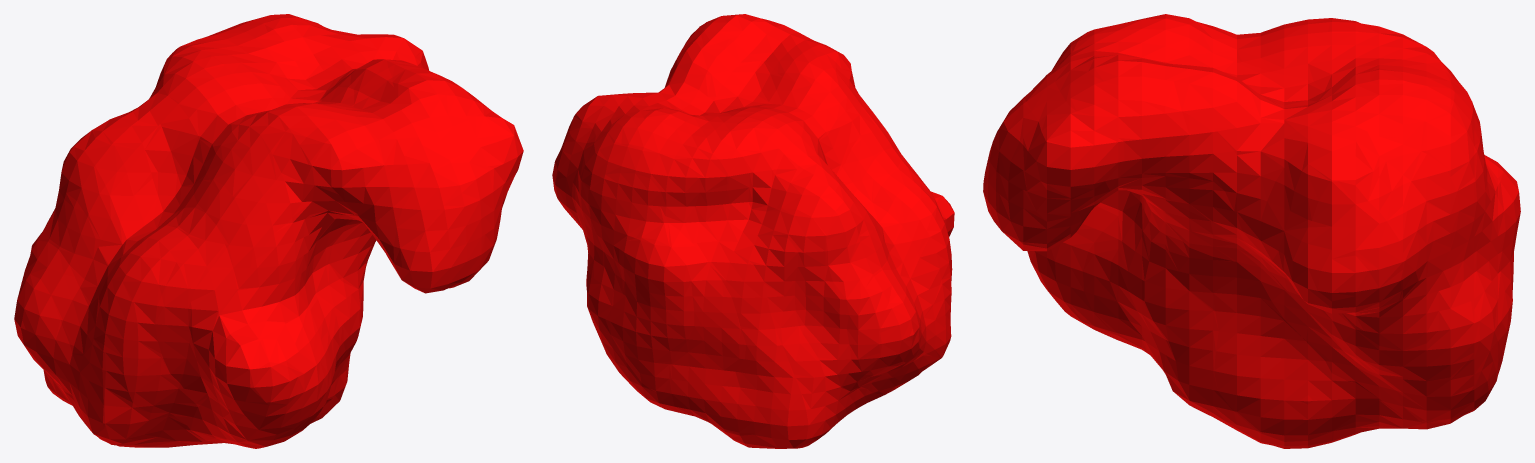
File: yjaG_coarse.dae
The picture shows the model from 3 angles, left to right: view 1: azimuth 30°, elevation 25°; view 2: azimuth 150°, elevation 25°; view 3: azimuth 270°, elevation 25°; orthographic projection. The views are drawn at different scales.
Parts seen in each view (by area): view 1: yjaG; view 2: yjaG; view 3: yjaG.
Part boxes in pixels (x1,y1,x2,y2): yjaG: [14, 14, 523, 448]; yjaG: [552, 14, 954, 448]; yjaG: [983, 14, 1520, 448].
Bounding box in the file's own units: 49.73 × 42.9 × 48.83.
